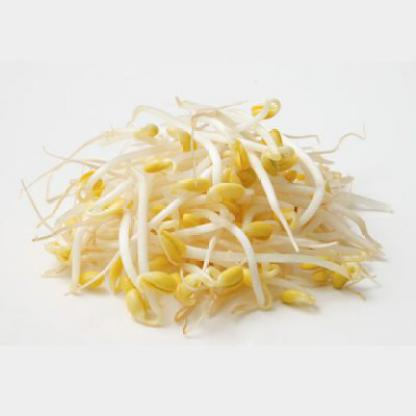bean sprouts: (68, 90, 384, 330)
